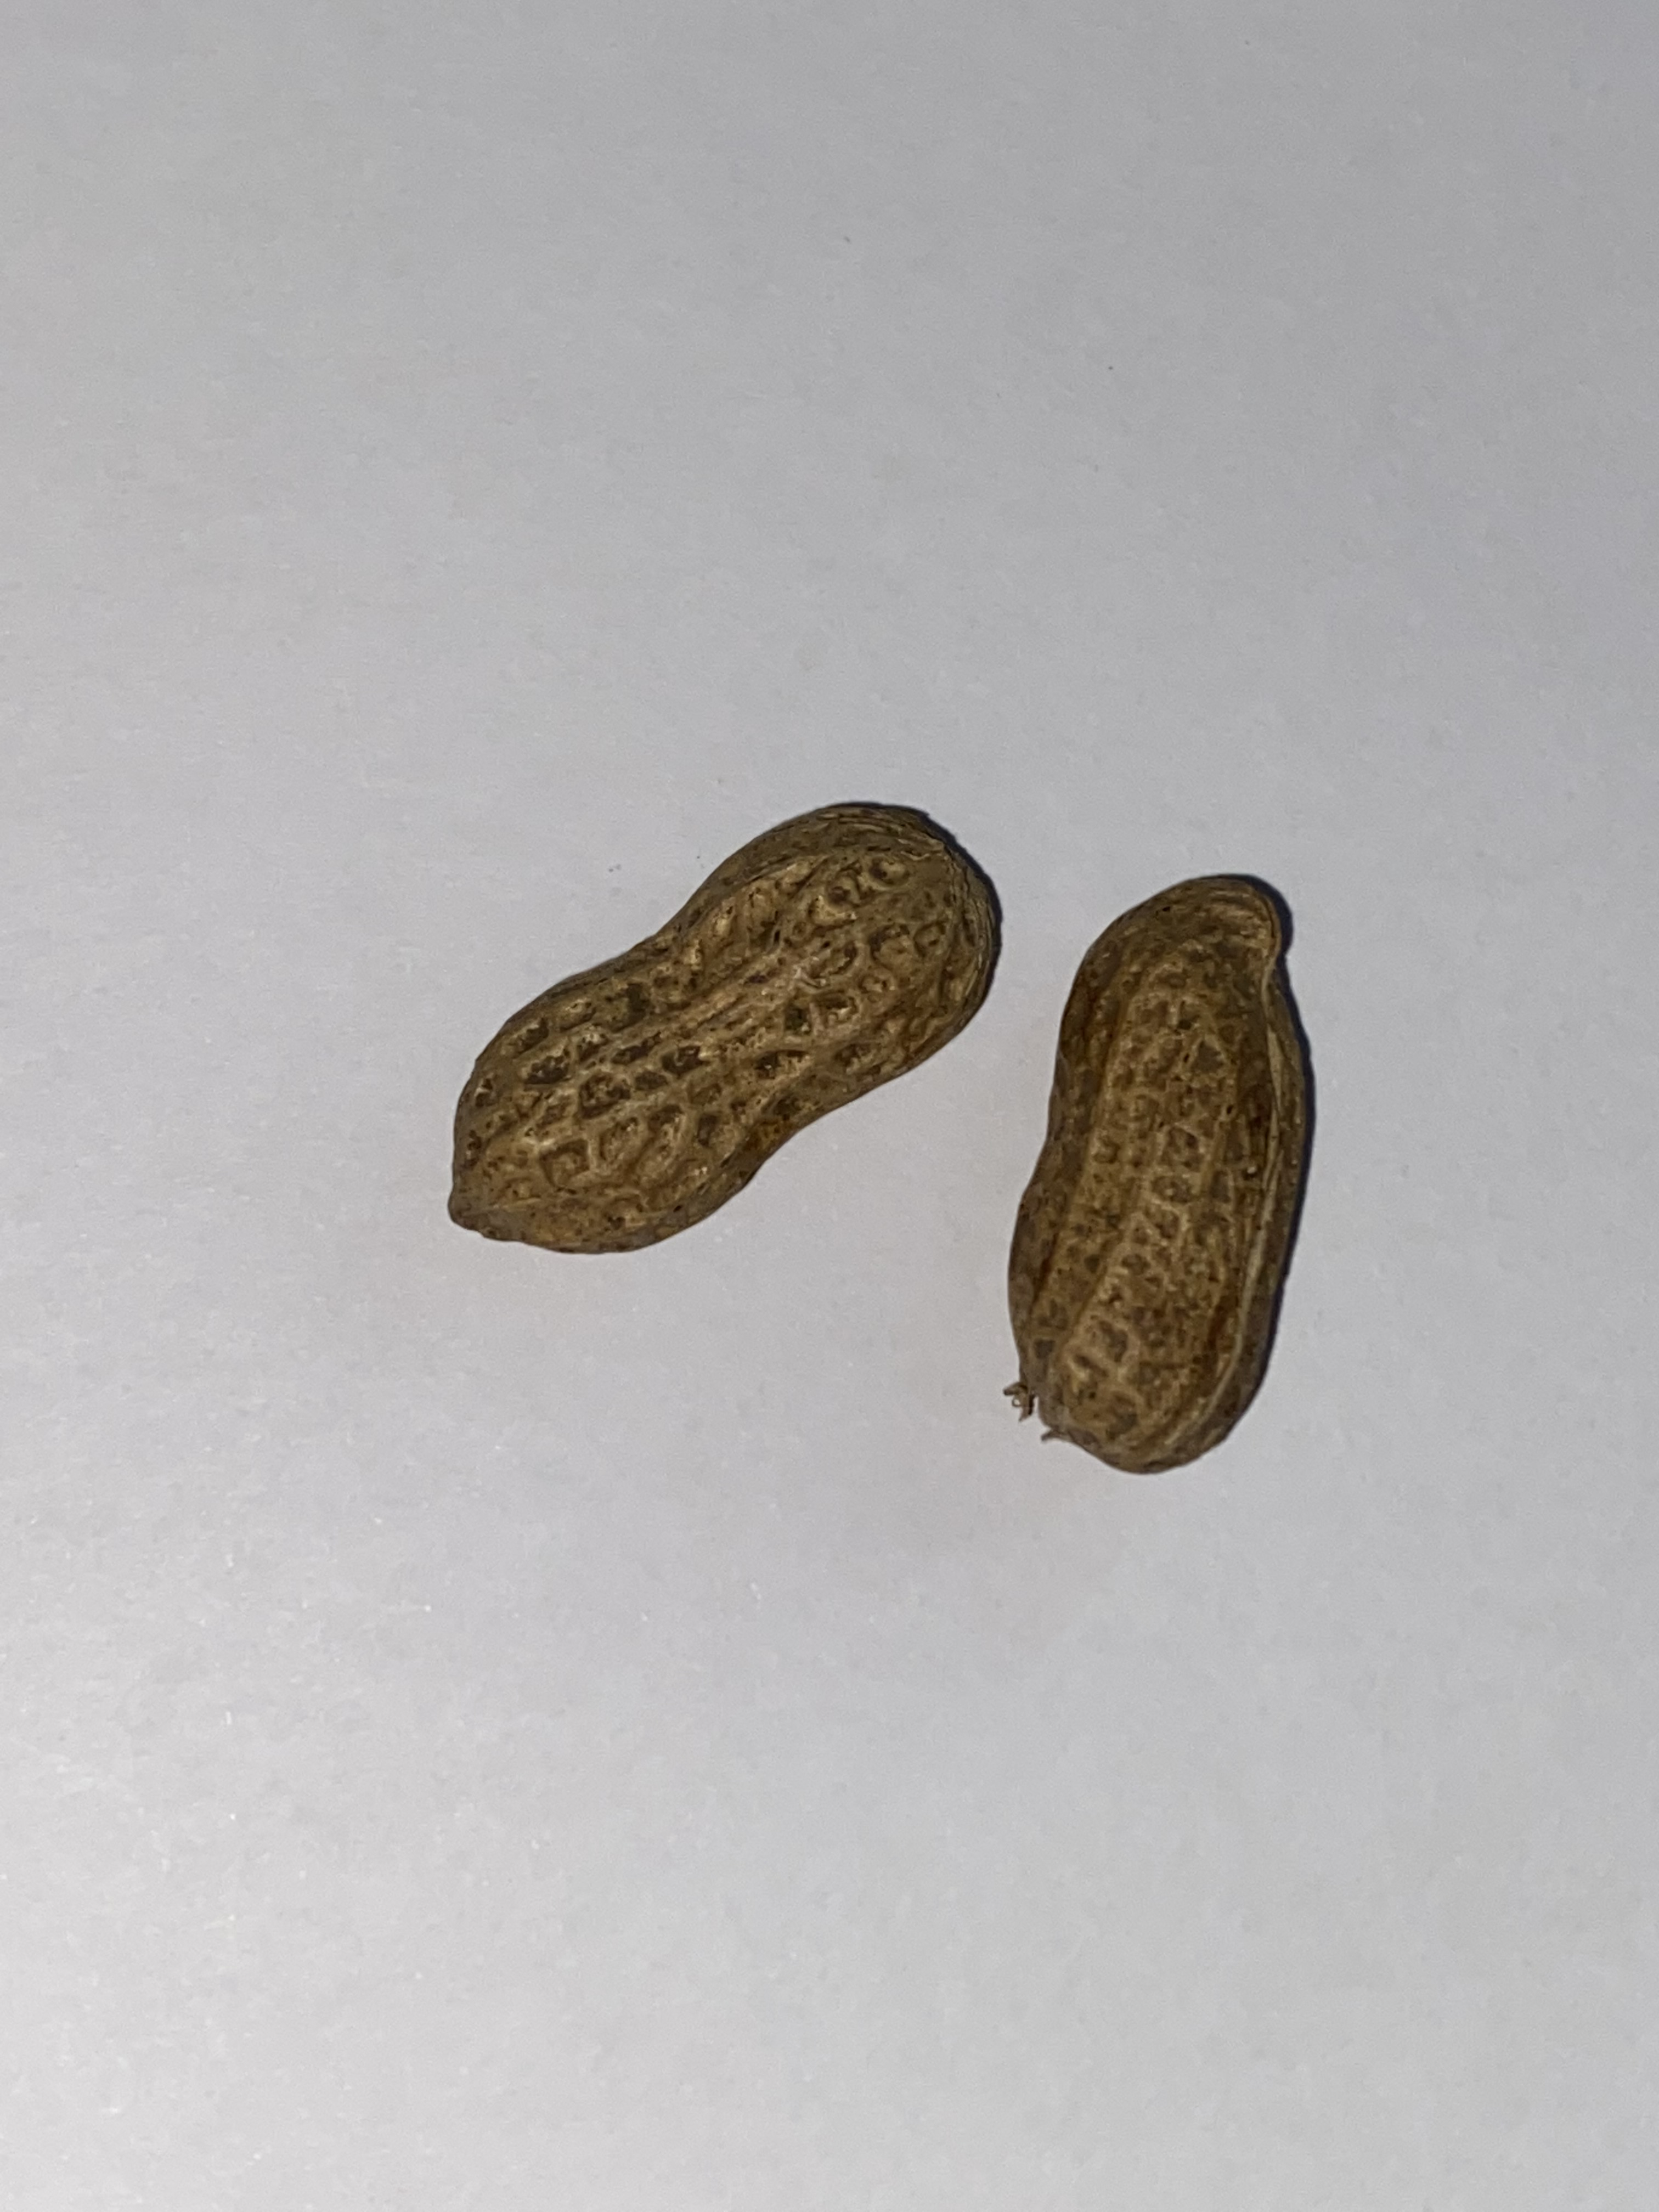kacang2: (420, 794, 1006, 1258), (1002, 873, 1328, 1474)
